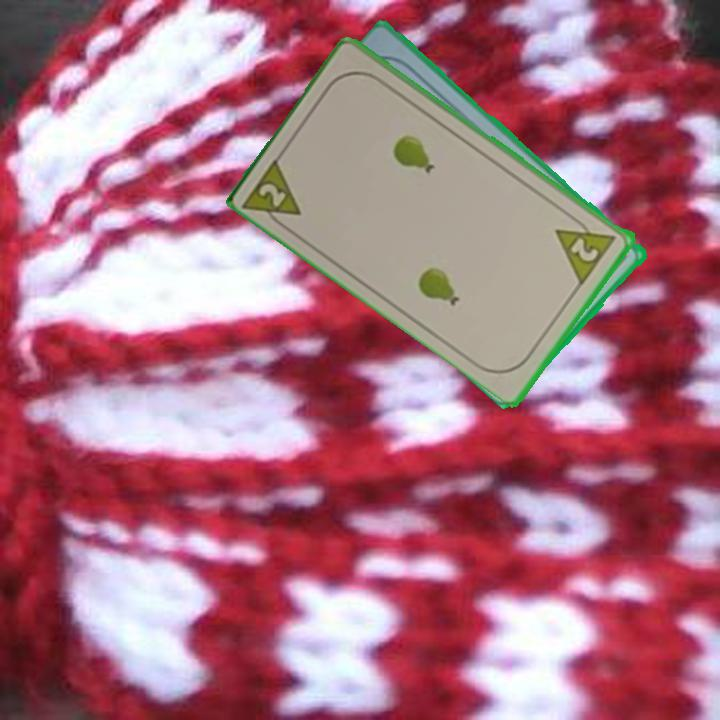2p: (240, 152, 306, 235), (567, 233, 602, 265)
